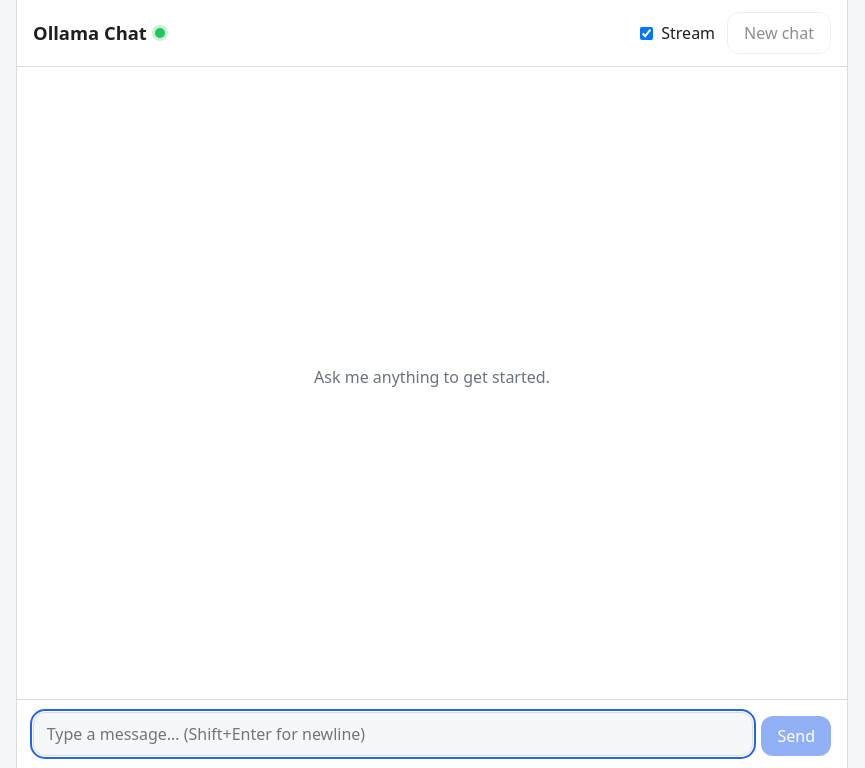
chat › streams the assistant reply from /chat-stream by default
Type "Hi" into the text box labelled "message". click: (393, 734)
box: [33,712,754,756]
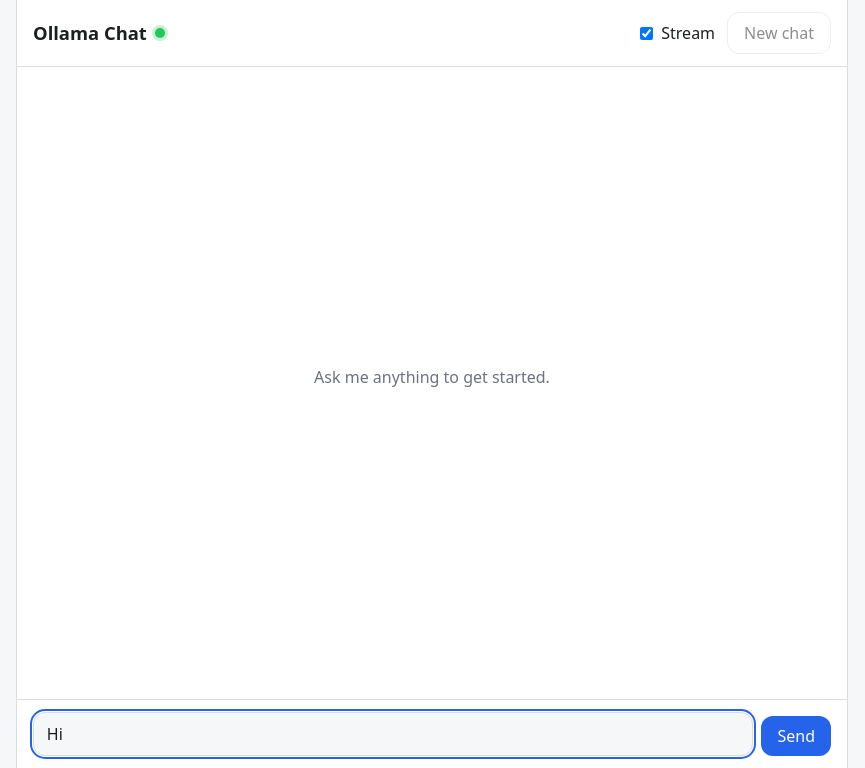
Press Enter
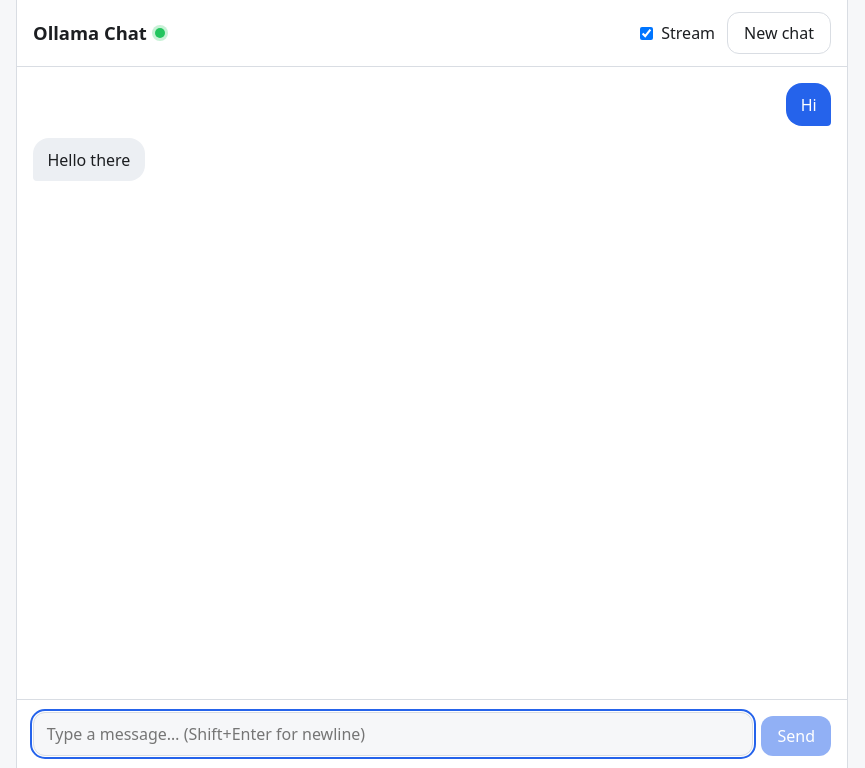
Expected: the text "Hello there" is shown, [33,138,145,181]
